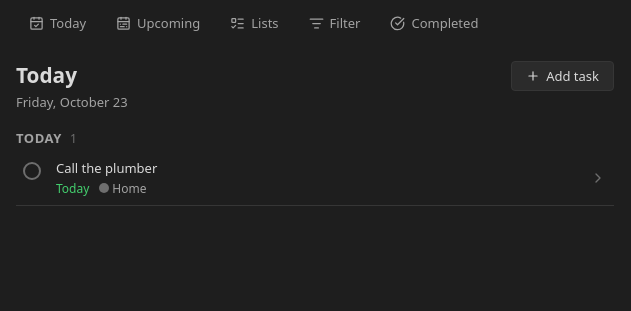
Test: Today page (ROADMAP item 4) › checks a task off at once and keeps it gone when the server agrees
The image size is (631, 311).
Click the checkbox named "Complete “Call the plumber”".
click(32, 171)  # box [23, 162, 41, 180]
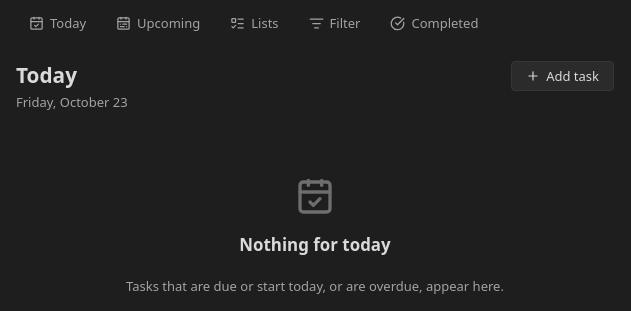
Expected: the text "Call the plumber" is gone
Expected: the heading "Nothing for today" is shown, [239, 233, 391, 256]
